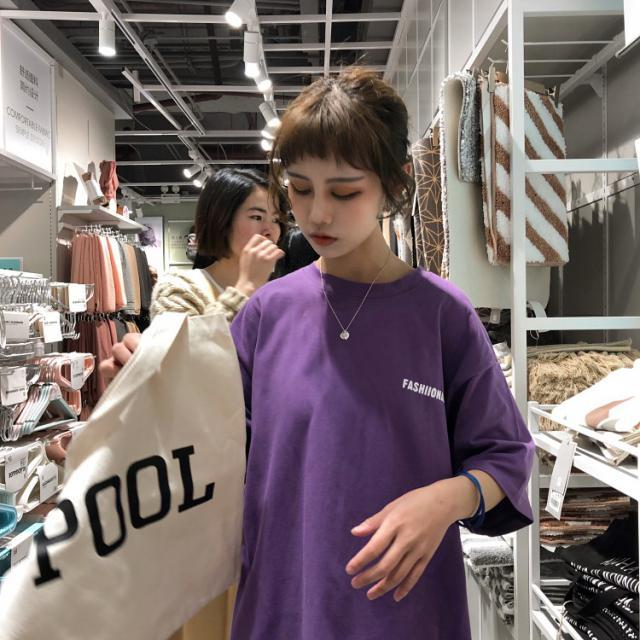Shirt: (220, 258, 544, 640)
